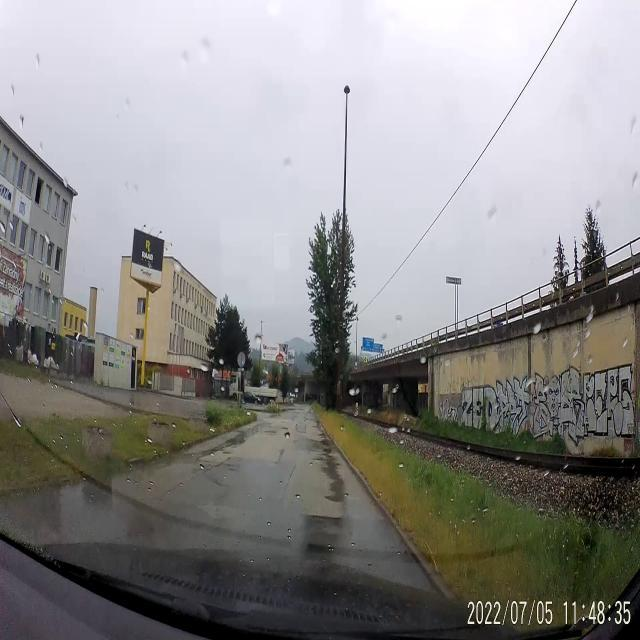Pothole: (264, 429, 278, 438), (280, 424, 289, 432)
